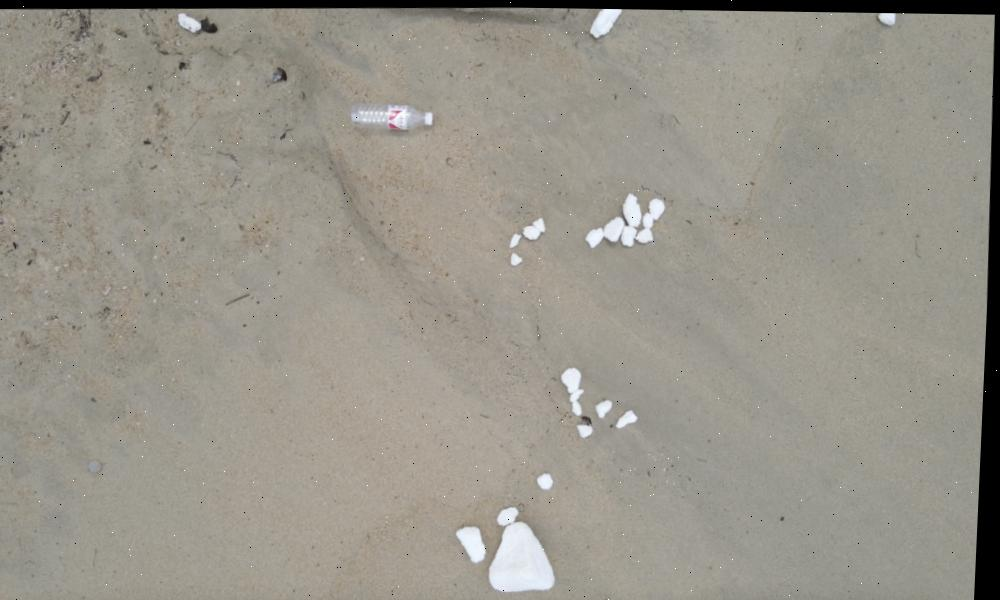plastic bottle: (352, 97, 436, 134)
styrofoam: (495, 517, 565, 591), (607, 194, 665, 239), (462, 525, 492, 560), (586, 7, 621, 36), (566, 365, 587, 413), (180, 12, 202, 36), (619, 408, 643, 425), (589, 226, 606, 246), (526, 221, 545, 237), (878, 10, 898, 24), (581, 421, 598, 436), (601, 398, 616, 414), (511, 229, 523, 247), (544, 473, 557, 486), (513, 250, 523, 266)
